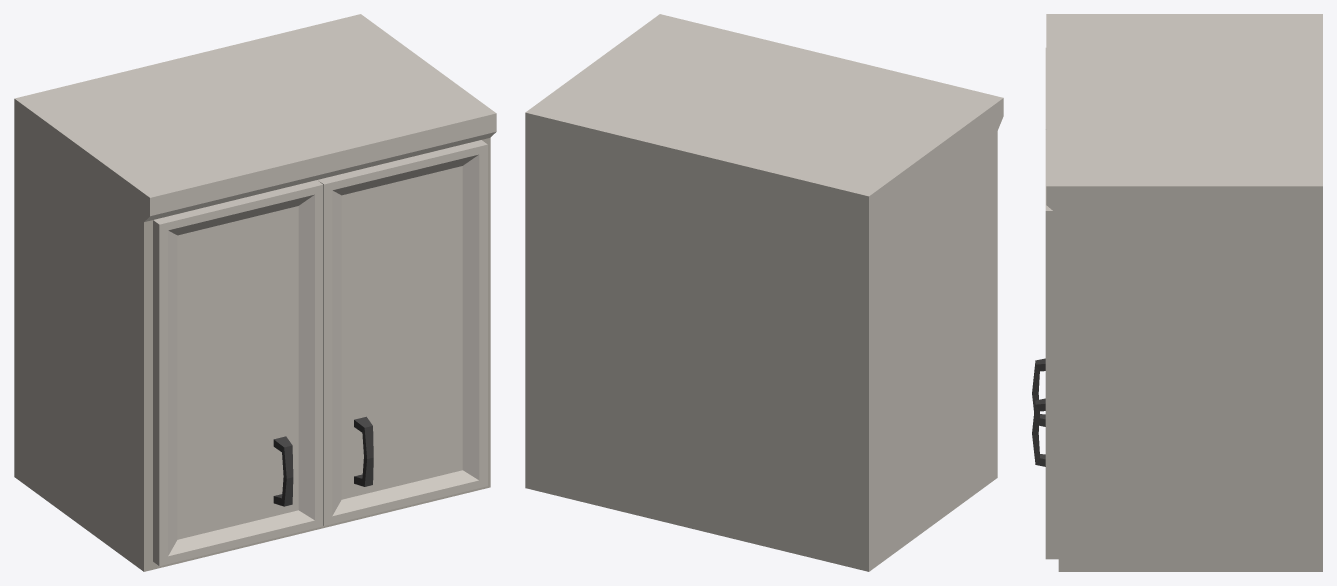
Rendered from SM_Prop_KitchenCabinet_01.fbx.
3 views of the same model, side by side, from view 1: azimuth 30°, elevation 25°; view 2: azimuth 150°, elevation 25°; view 3: azimuth 270°, elevation 25° (orthographic). The views are drawn at different scales.
Parts seen in each view (by area): view 1: SM_Prop_KitchenCabinet_01; view 2: SM_Prop_KitchenCabinet_01; view 3: SM_Prop_KitchenCabinet_01.
Boxes of the visible parts, <box> form: SM_Prop_KitchenCabinet_01: <box>14,14,496,571</box>; SM_Prop_KitchenCabinet_01: <box>525,14,1003,571</box>; SM_Prop_KitchenCabinet_01: <box>1032,14,1322,571</box>.
Bounding box in the file's own units: 100 × 104 × 71.3.
